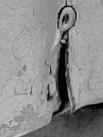crack: (1, 1, 103, 137)
